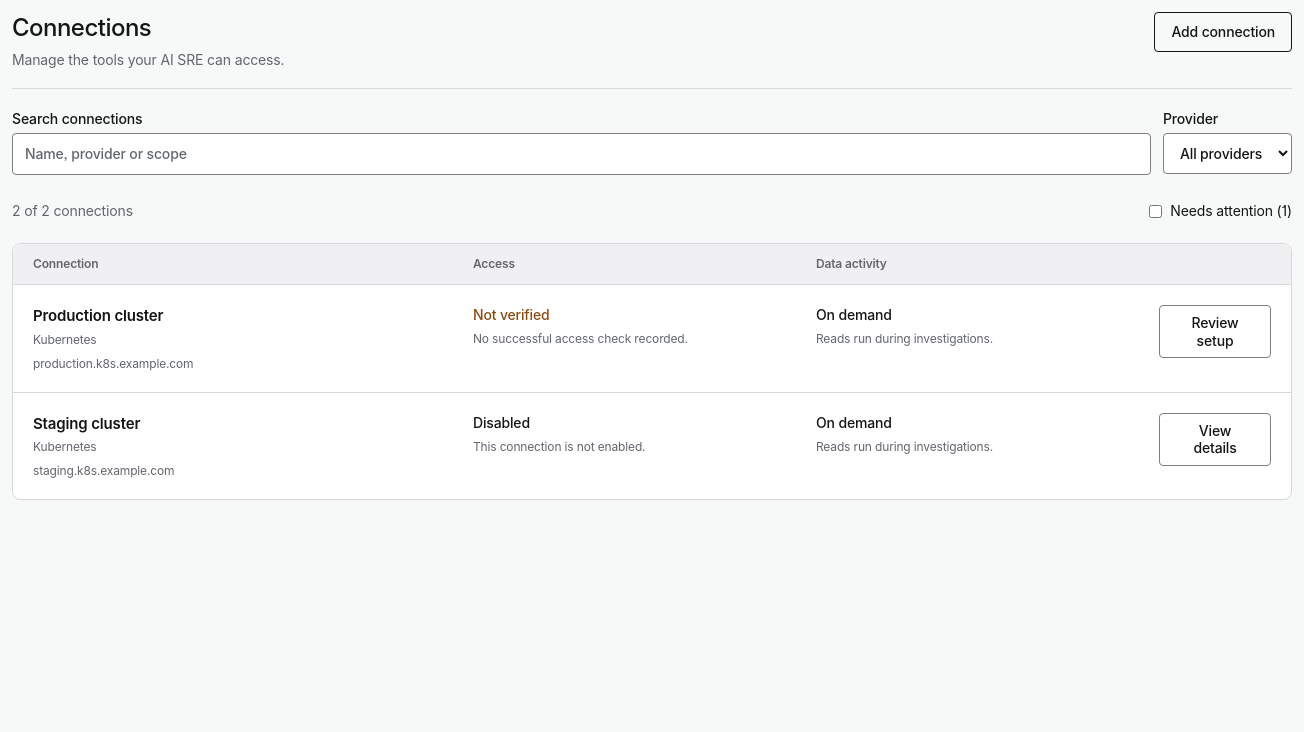
Scenario: ConnectorsPanel › shows multiple independently named instances and keeps the add action available
This screenshot has width=1304, height=732.
Check: the button "Add connection" is shown, box x1=1154 y1=12 x2=1292 y2=52
Check: the text "production.k8s.example.com" is shown, box x1=33 y1=356 x2=193 y2=372
Click the button "Review setup": (1215, 332) x1=1159 y1=305 x2=1271 y2=358
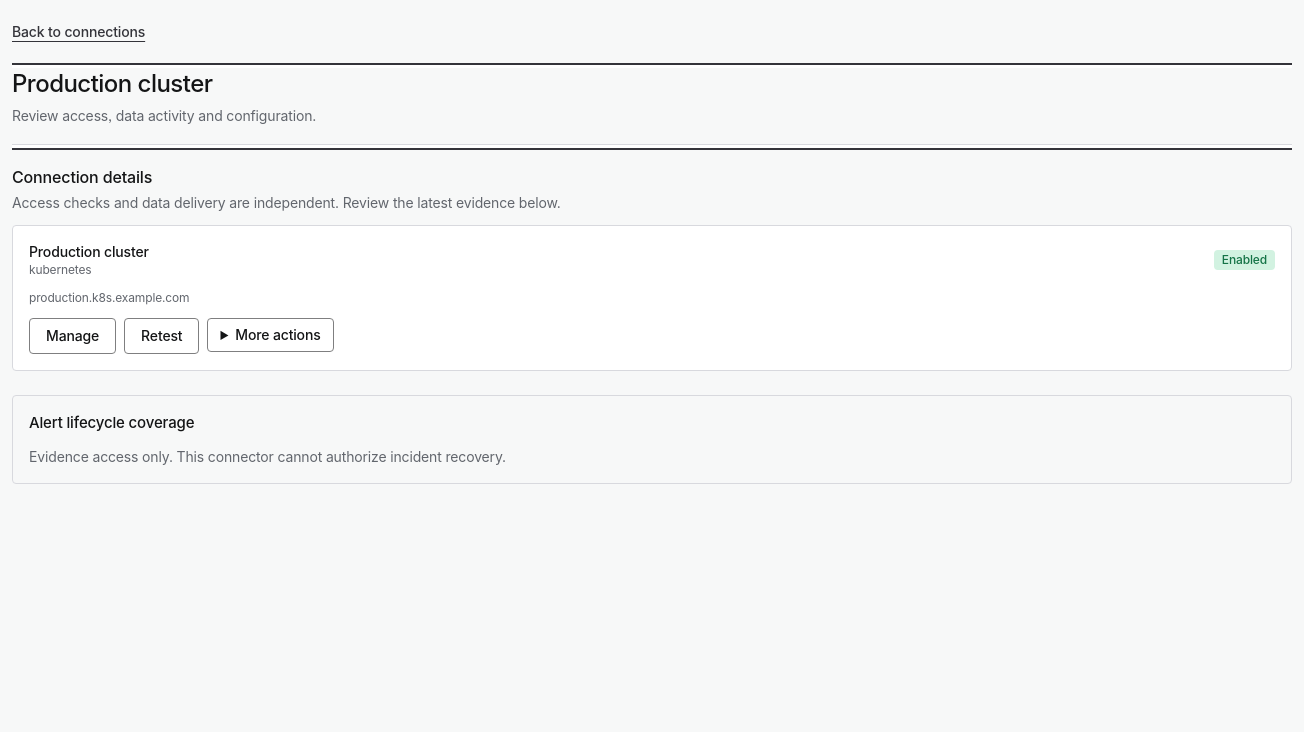
Click the button "Retest": (162, 336) x1=124 y1=318 x2=200 y2=354
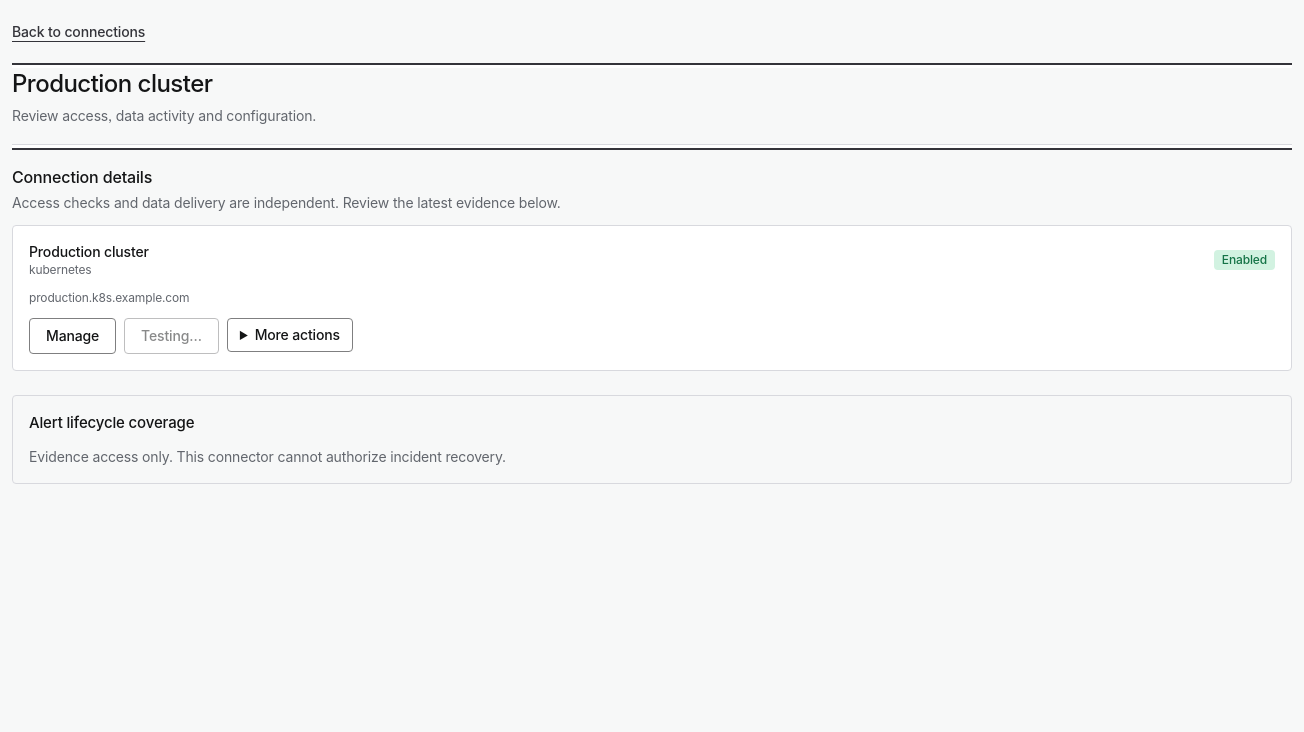
Check: the button "Testing…" is shown, box x1=124 y1=318 x2=219 y2=354
